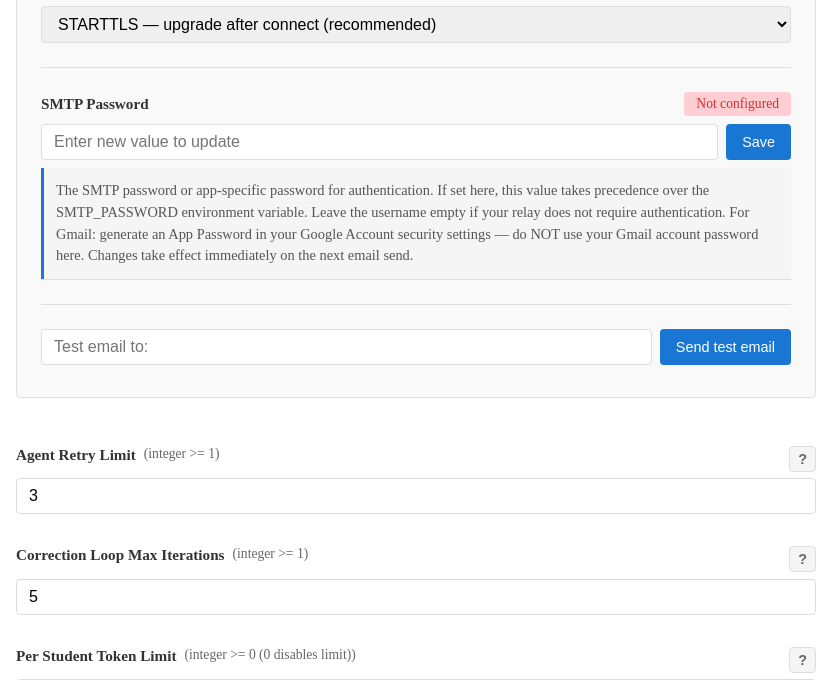
SystemConfigView › test-send handles 429 rate limit response
The image size is (833, 680).
(page scrolled)
Type "admin@example.com" into the field with class "test-email-input" at (346, 347), box x1=41 y1=329 x2=652 y2=365
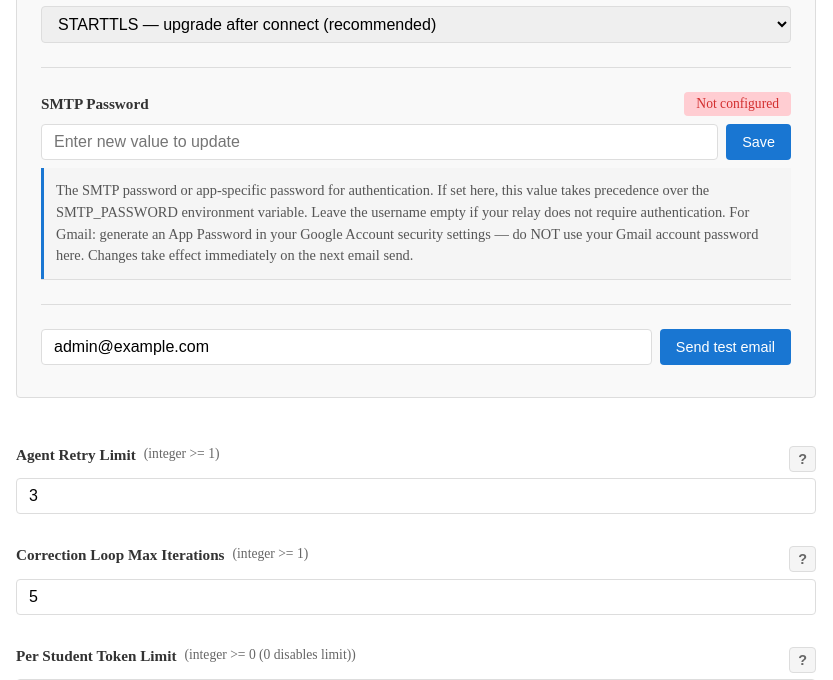
Click the button with class "test-email-button" at (725, 347), box x1=660 y1=329 x2=791 y2=365
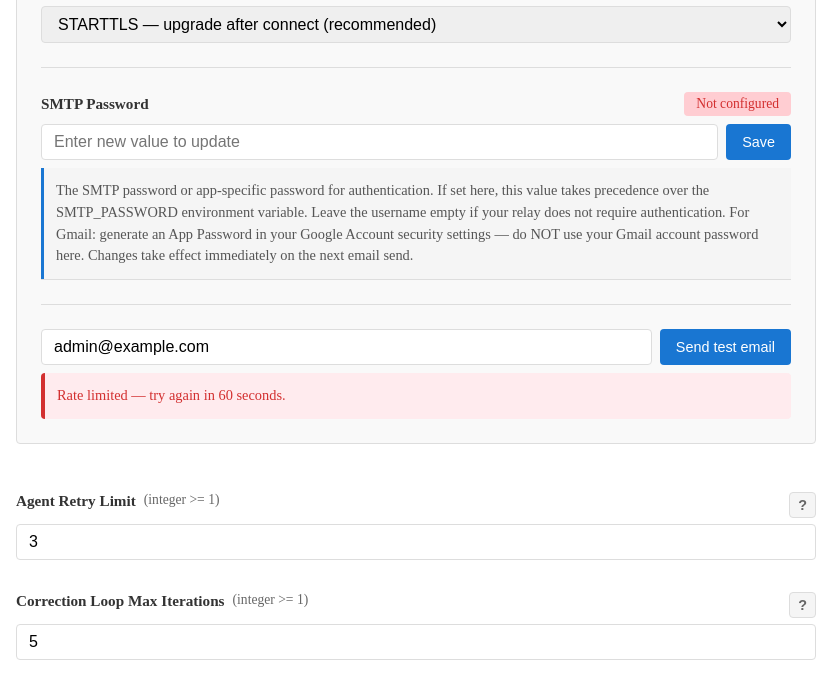
Check: the text "Rate limited — try again in 60 seconds." is shown, box x1=41 y1=373 x2=791 y2=418
Check: the text with class "error" shows "Rate limited", box x1=57 y1=387 x2=286 y2=403
Check: the text with class "error" shows "60 seconds", box x1=57 y1=387 x2=286 y2=403
